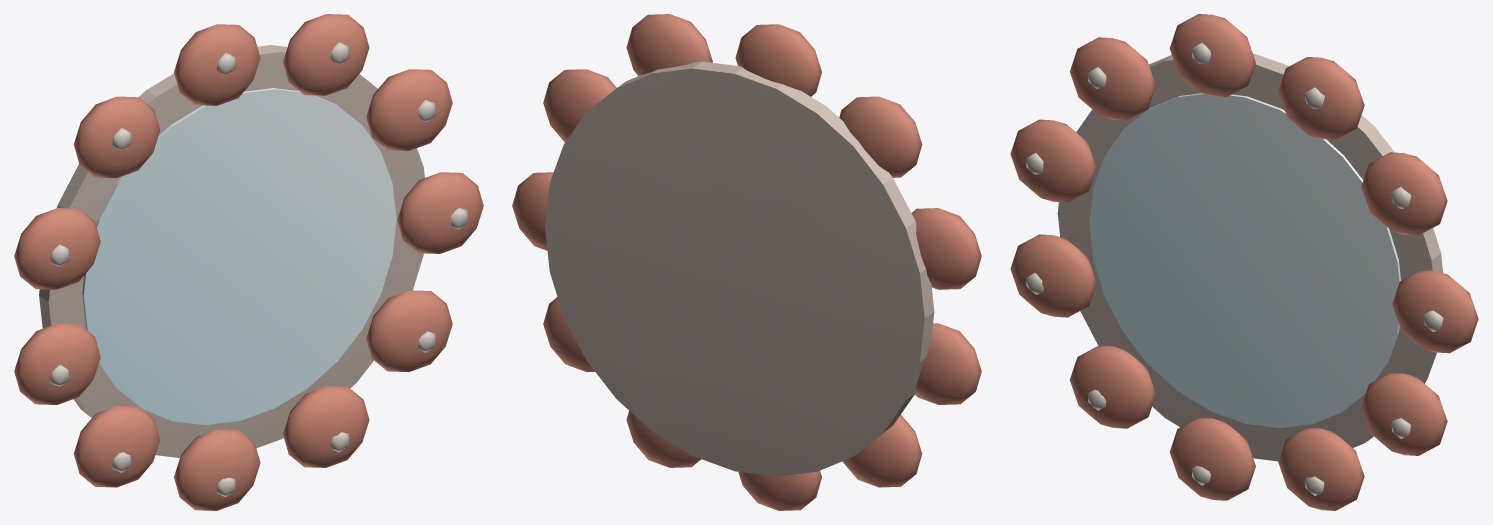
The model's file is furn_shell_mirror.glb.
3 views of the same model, side by side, from view 1: azimuth 30°, elevation 25°; view 2: azimuth 150°, elevation 25°; view 3: azimuth 330°, elevation 25° (orthographic).
Visible parts, largest first — view 1: furn_shell_mirror_gloss, furn_shell_mirror_main; view 2: furn_shell_mirror_main; view 3: furn_shell_mirror_gloss, furn_shell_mirror_main.
Boxes of the visible parts, <box> form: furn_shell_mirror_gloss: <box>82,88,396,425</box>; furn_shell_mirror_main: <box>14,14,483,510</box>; furn_shell_mirror_main: <box>512,14,981,510</box>; furn_shell_mirror_gloss: <box>1089,93,1400,427</box>; furn_shell_mirror_main: <box>1010,14,1478,510</box>.
Size of the model in its own units: 0.8285 by 0.8329 by 0.0902.
